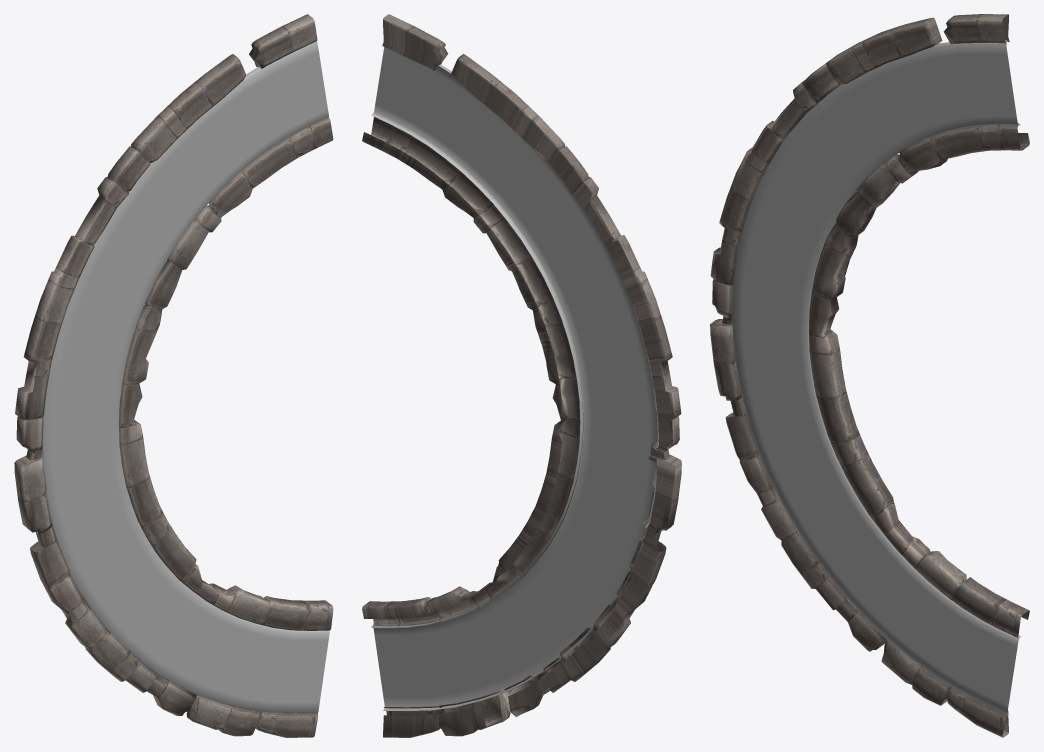
Rendered from Vd_SerpentHole_Path_A.fbx.
3 renders of one model, left to right at view 1: azimuth 30°, elevation 25°; view 2: azimuth 150°, elevation 25°; view 3: azimuth 330°, elevation 25°, orthographic.
Parts seen in each view (by area): view 1: Vd_SerpentHole_Path_A; view 2: Vd_SerpentHole_Path_A; view 3: Vd_SerpentHole_Path_A.
Part boxes in pixels (box(x1,y1,x2,y2)): Vd_SerpentHole_Path_A: box(14, 14, 333, 737); Vd_SerpentHole_Path_A: box(362, 14, 681, 737); Vd_SerpentHole_Path_A: box(710, 14, 1029, 737).
Bounding box in the file's own units: 2591 × 5703 × 134.
